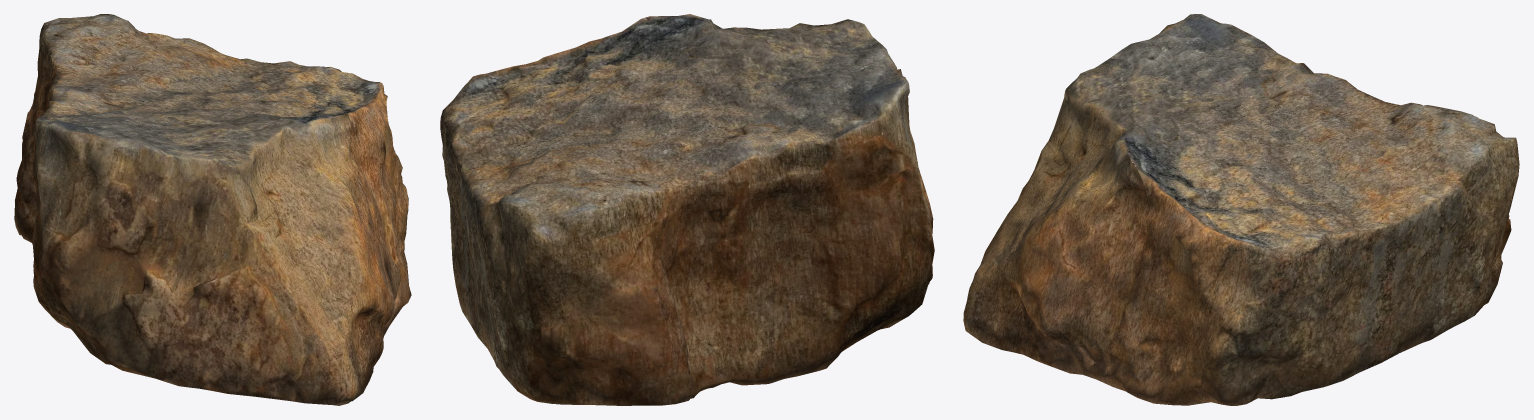
The model's file is namaqualand_boulder_03.glb.
3 renders of one model, left to right at view 1: azimuth 30°, elevation 25°; view 2: azimuth 150°, elevation 25°; view 3: azimuth 270°, elevation 25°, orthographic. The views are drawn at different scales.
Visible parts, largest first — view 1: boulder_03_LOD0; view 2: boulder_03_LOD0; view 3: boulder_03_LOD0.
Boxes of the visible parts, <box> form: boulder_03_LOD0: <box>14,14,411,405</box>; boulder_03_LOD0: <box>440,14,934,405</box>; boulder_03_LOD0: <box>963,14,1519,405</box>.
Bounding box in the file's own units: 2.4 × 1.47 × 3.07.
Materials: 1 (1 with a texture image).
